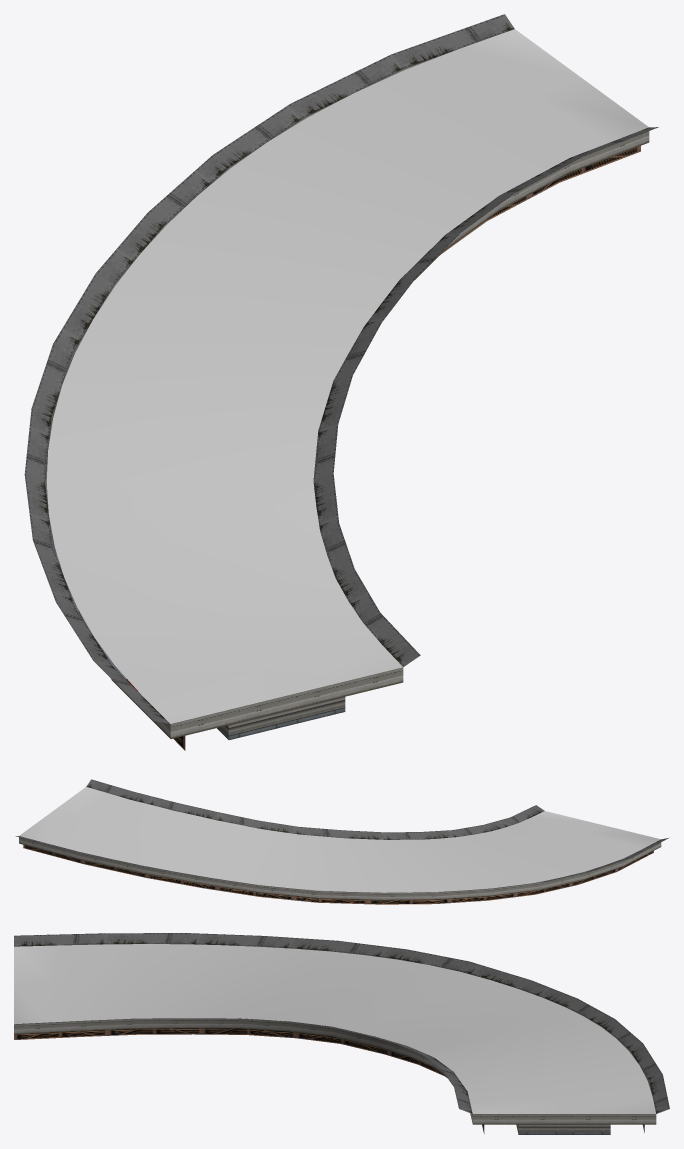
3 views of the same model, one above another, from view 1: azimuth 30°, elevation 25°; view 2: azimuth 150°, elevation 25°; view 3: azimuth 270°, elevation 25° (orthographic). The views are drawn at different scales.
Visible parts, largest first — view 1: Empty_Mesh; view 2: Empty_Mesh; view 3: Empty_Mesh.
Part boxes in pixels (box(x1,y1,x2,y2)): Empty_Mesh: box(24, 14, 658, 750); Empty_Mesh: box(15, 779, 669, 904); Empty_Mesh: box(14, 933, 669, 1134).
Size of the model in its own units: 57.2 by 12.5 by 57.2.
